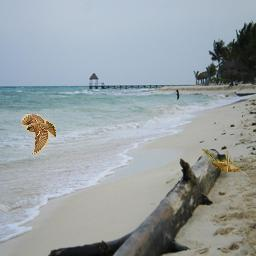Cuckoo: (202, 149, 242, 172)
Sparrow: (21, 114, 56, 154)
